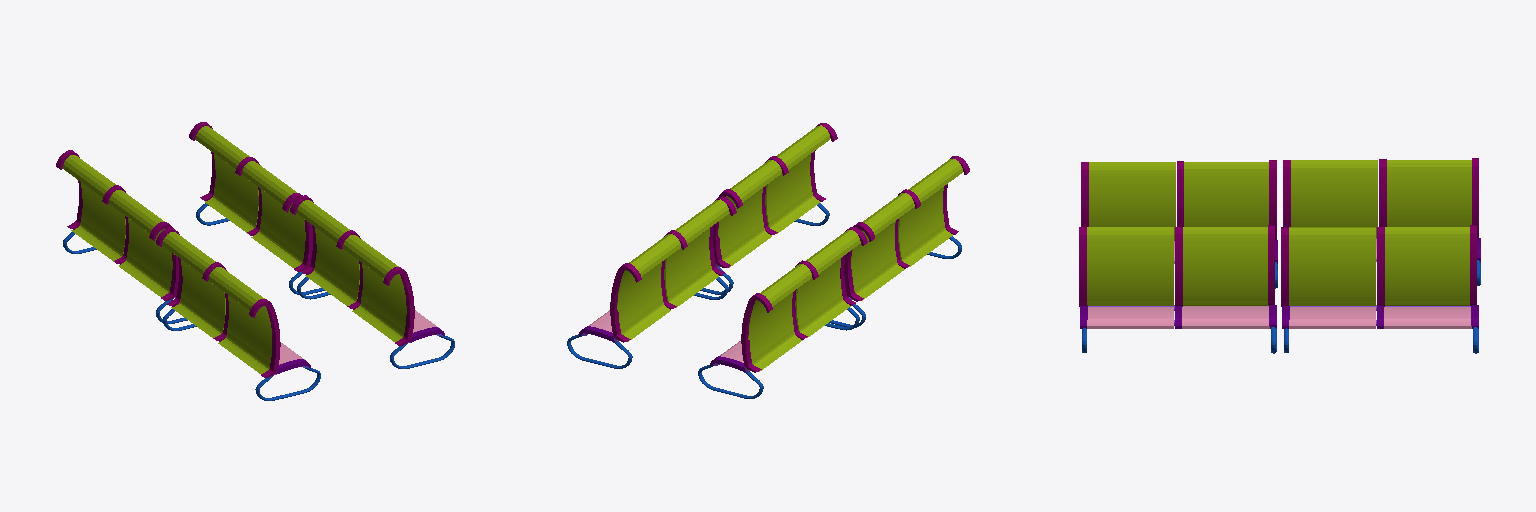
3 renders of one model, left to right at view 1: azimuth 30°, elevation 25°; view 2: azimuth 150°, elevation 25°; view 3: azimuth 270°, elevation 25°, orthographic.
Parts seen in each view (by area): view 1: Box011, Box001, Box032, Box022, Box033, Box002, Box012, Box023, Box007, Box017, Box037; view 2: Box023, Box033, Box032, Box001, Box011, Box022, Box002, Box012, Box038, Box028, Box008; view 3: Box032, Box011, Box012, Box033, Box022, Box023, Box001, Box002, Box014, Box031, Box013, Box034 (+9 smaller).
Boxes of the visible parts, box(x1,y1,x2,y2) form: Box011: box(343, 235, 406, 341); Box001: box(208, 267, 271, 373); Box032: box(242, 161, 305, 267); Box022: box(109, 190, 172, 296); Box033: box(195, 126, 258, 233); Box002: box(162, 232, 225, 337); Box012: box(296, 200, 359, 305); Box023: box(62, 155, 125, 261); Box007: box(249, 299, 280, 377); Box017: box(383, 267, 414, 345); Box037: box(282, 193, 312, 271); Box023: box(748, 264, 811, 371); Box033: box(617, 234, 680, 341); Box032: box(664, 199, 729, 307); Box001: box(898, 159, 962, 266); Box011: box(765, 125, 830, 233); Box022: box(795, 230, 860, 337); Box002: box(851, 193, 914, 300); Box012: box(718, 160, 781, 267); Box038: box(610, 263, 641, 342); Box028: box(741, 293, 772, 372); Box008: box(844, 222, 874, 301); Box032: box(1289, 227, 1375, 305); Box011: box(1087, 227, 1173, 305); Box012: box(1183, 227, 1268, 305); Box033: box(1385, 227, 1469, 305); Box022: box(1291, 160, 1377, 237); Box023: box(1387, 160, 1471, 226); Box001: box(1089, 162, 1175, 240); Box002: box(1184, 162, 1268, 226); Box014: box(1182, 306, 1269, 328); Box031: box(1384, 307, 1471, 328); Box013: box(1087, 307, 1173, 328); Box034: box(1289, 307, 1375, 328).
Bounding box in the file's own units: 123 × 61.68 × 207.